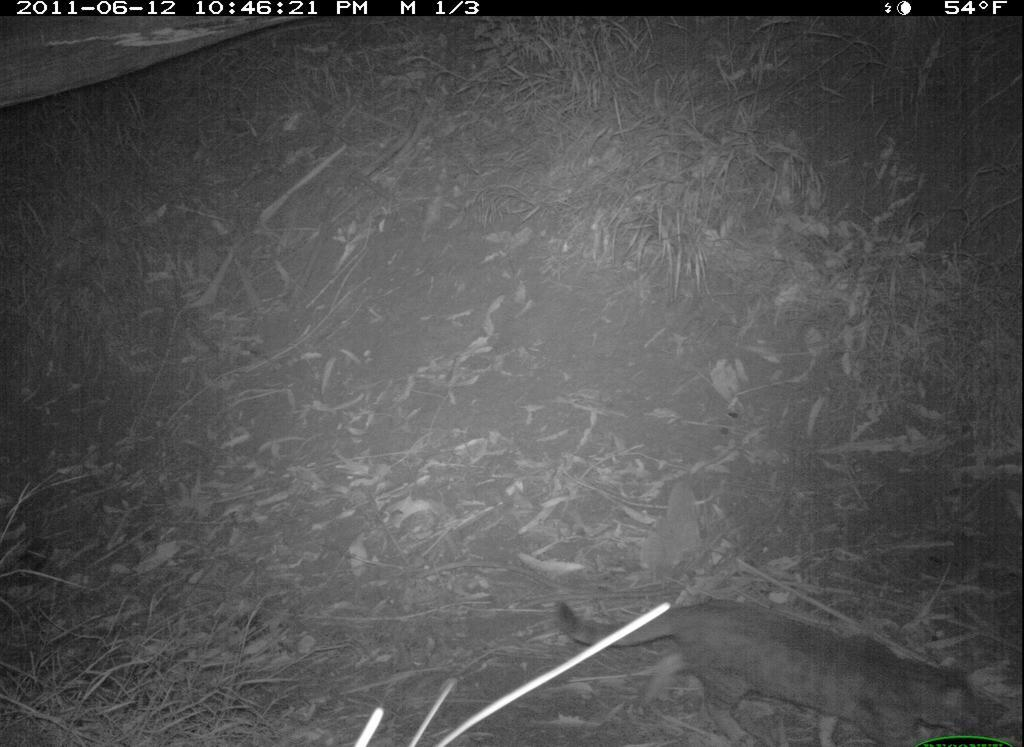cat: (550, 588, 1013, 747)
